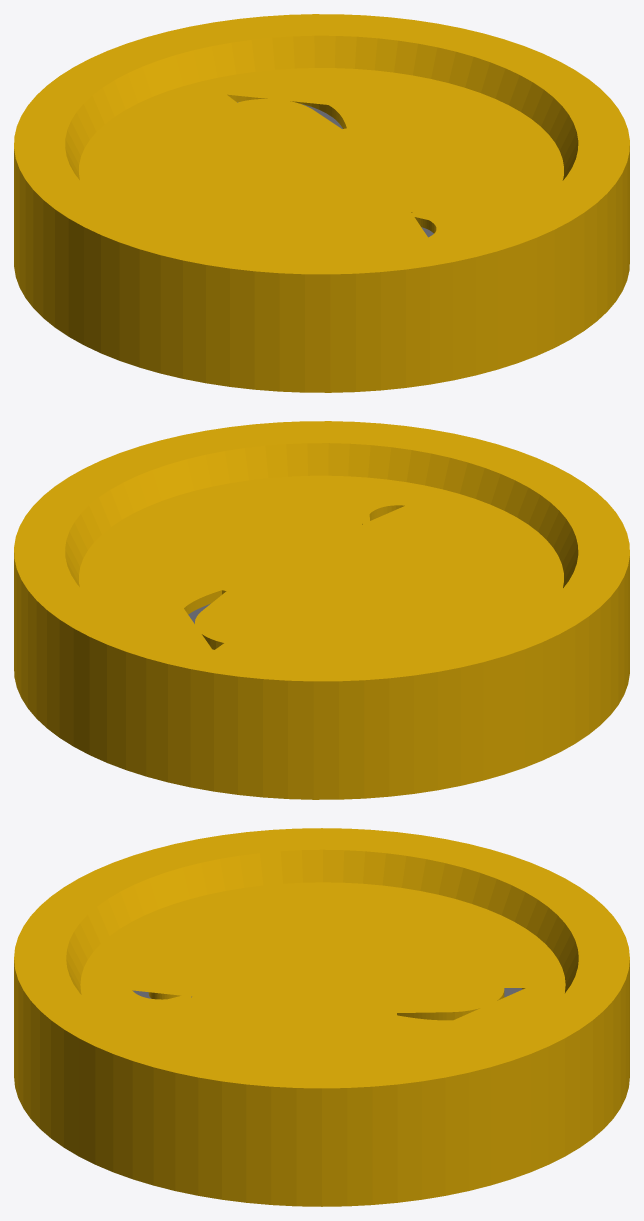
File: coin 1.fbx
3 views of the same model, one above another, from view 1: azimuth 30°, elevation 25°; view 2: azimuth 150°, elevation 25°; view 3: azimuth 270°, elevation 25° (orthographic).
Visible parts, largest first — view 1: 円柱; view 2: 円柱; view 3: 円柱.
Part boxes in pixels (x1,y1,x2,y2): 円柱: (14, 14, 629, 392); 円柱: (14, 421, 629, 799); 円柱: (14, 828, 629, 1206).
Size of the model in its own units: 250 by 53 by 250.
